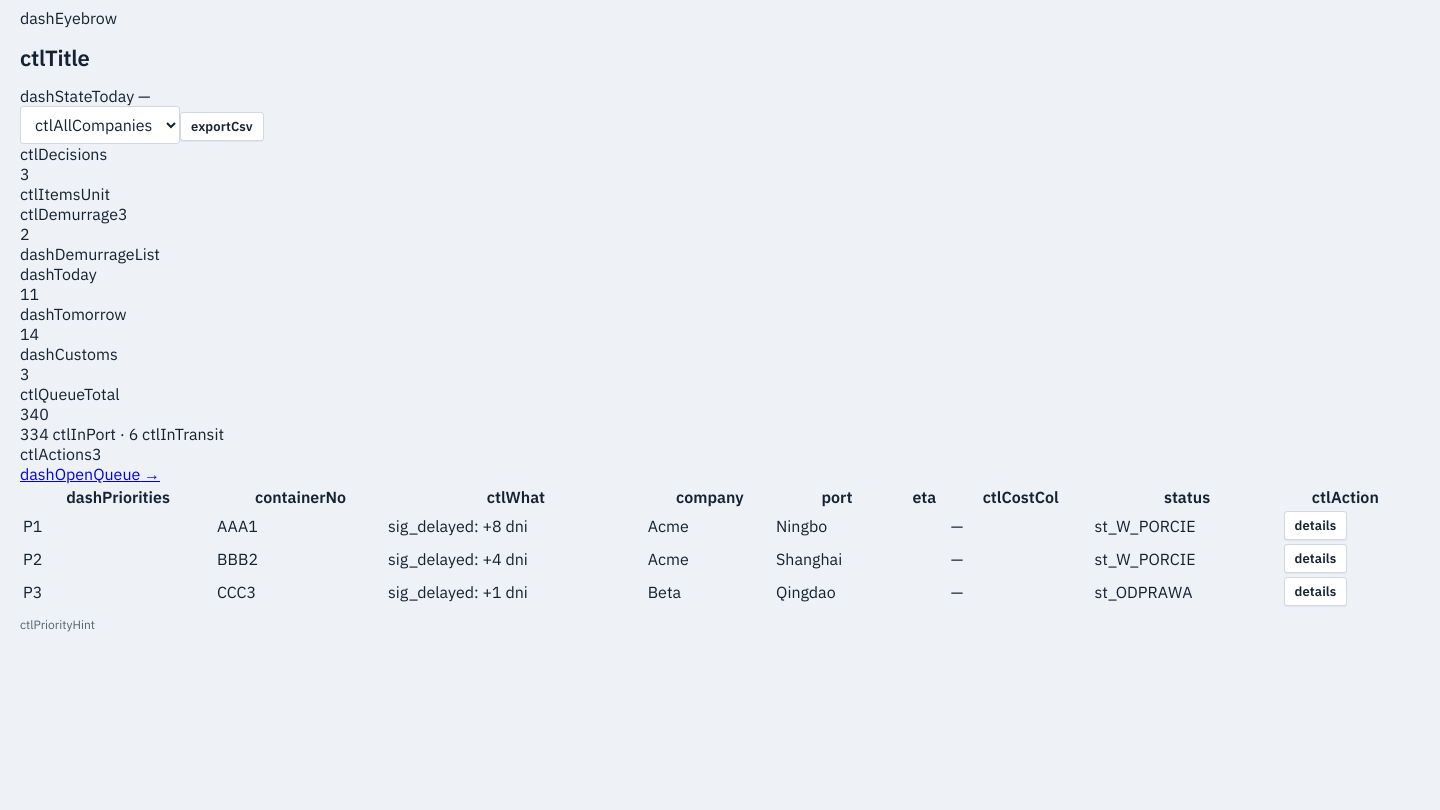
Test: Wieża kontrolna — dashboard 1a › filtr spółki zawęża listę działań
This screenshot has width=1440, height=810.
Check: the text "CCC3" is shown, box [216, 576, 385, 608]
Select "Beta" in the dropdown named "company" at (100, 126), box [20, 106, 180, 144]
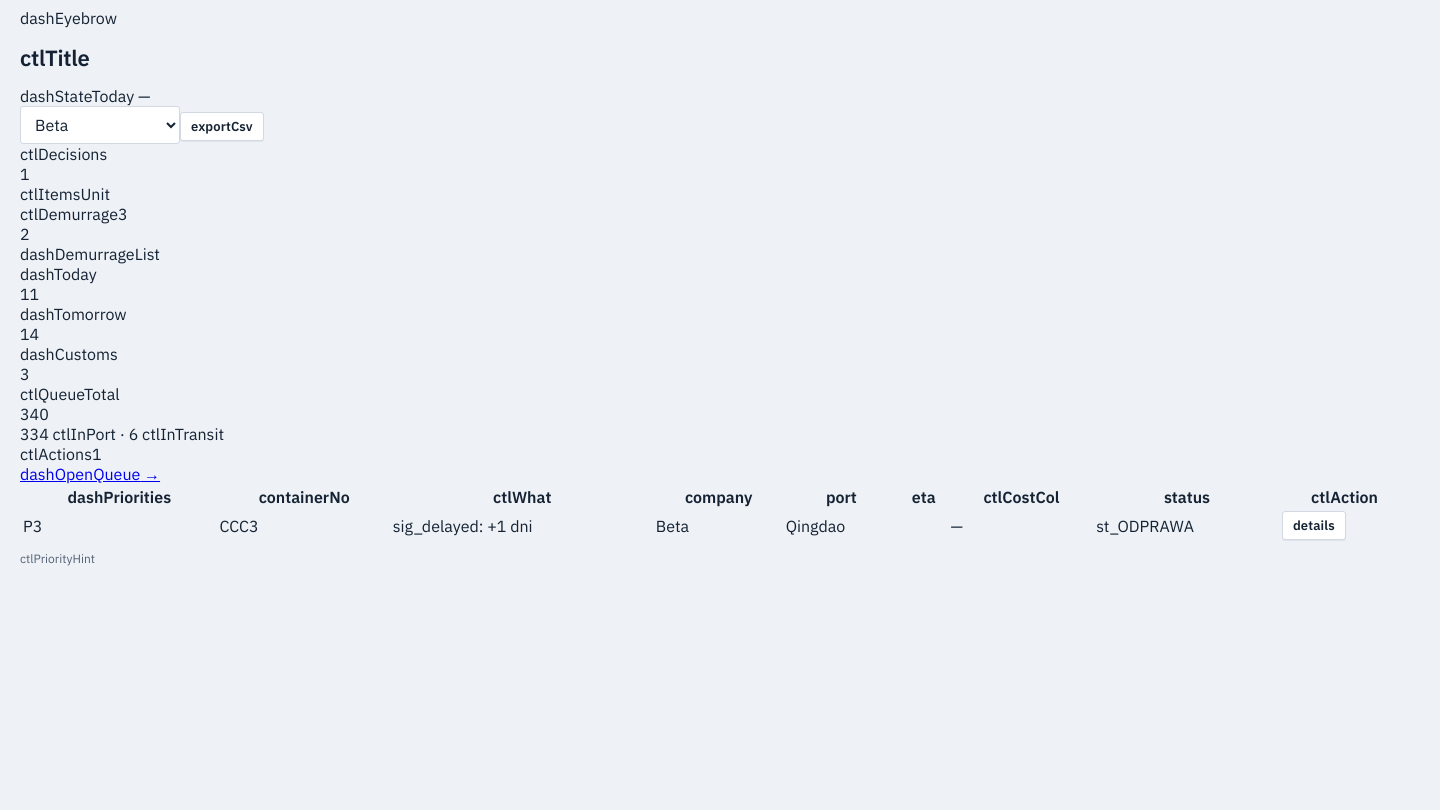
Check: the text "CCC3" is shown, box [219, 510, 390, 542]
Check: the text "AAA1" is gone
